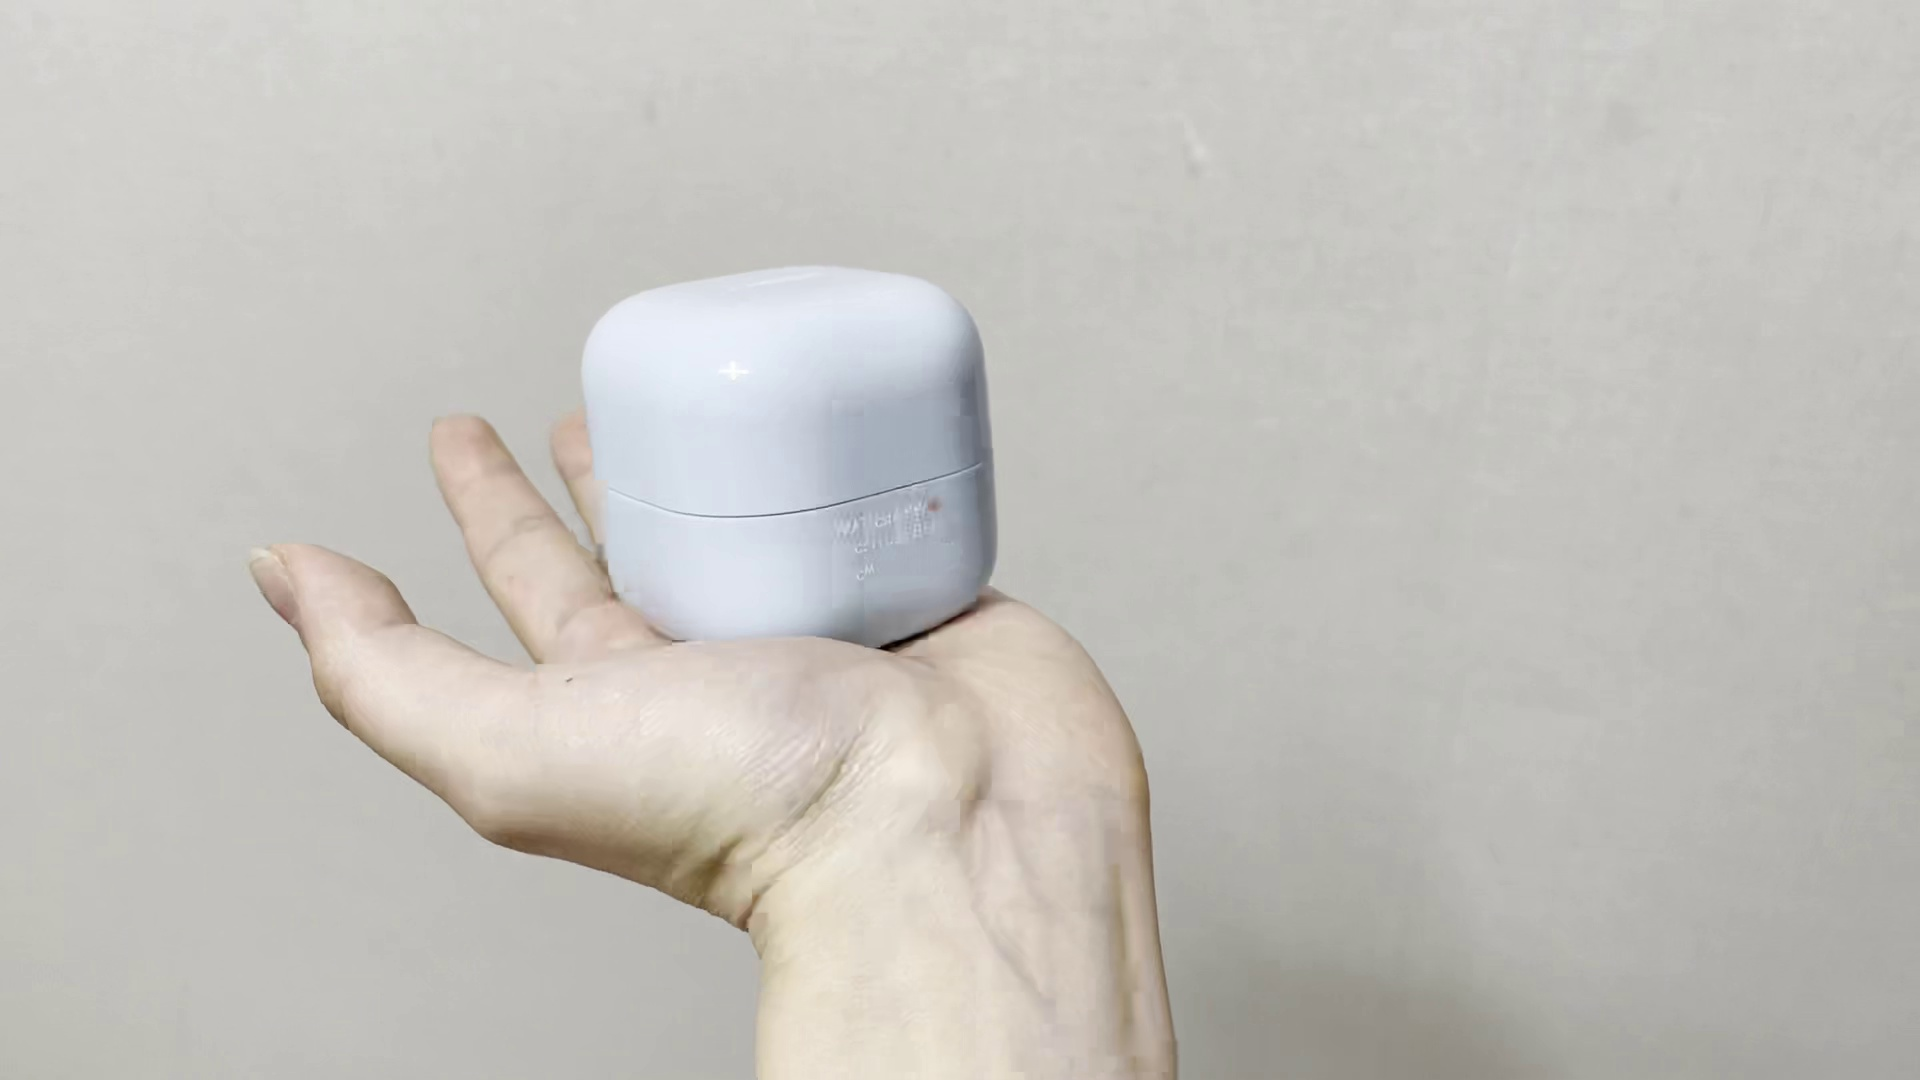cream: (587, 268, 1004, 641)
